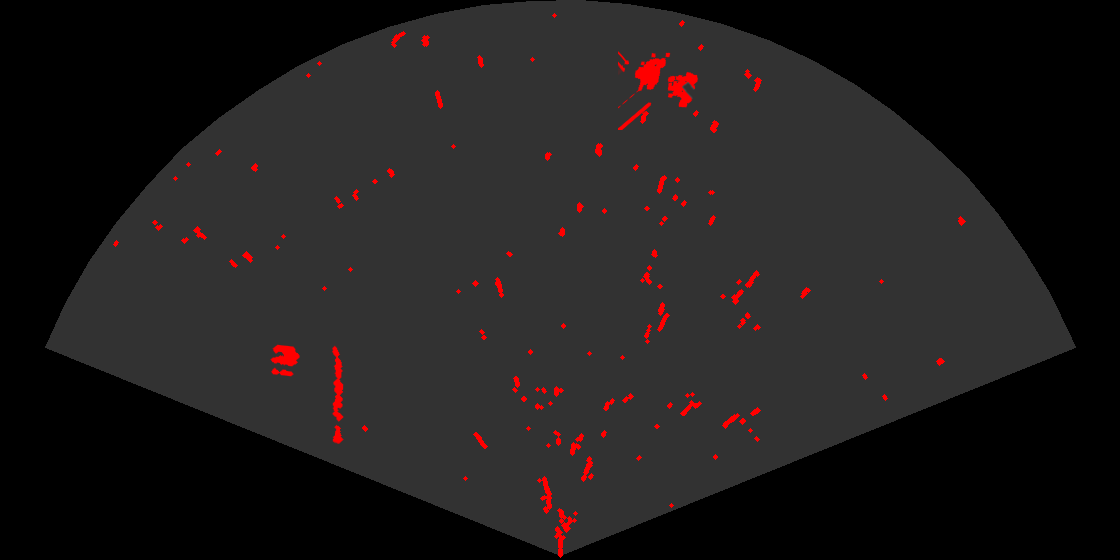ball: (269, 343, 301, 378)
cage: (618, 50, 700, 130)
chain: (331, 344, 345, 444)
